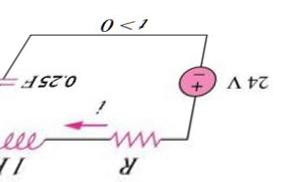inductor: (0, 129, 51, 154)
